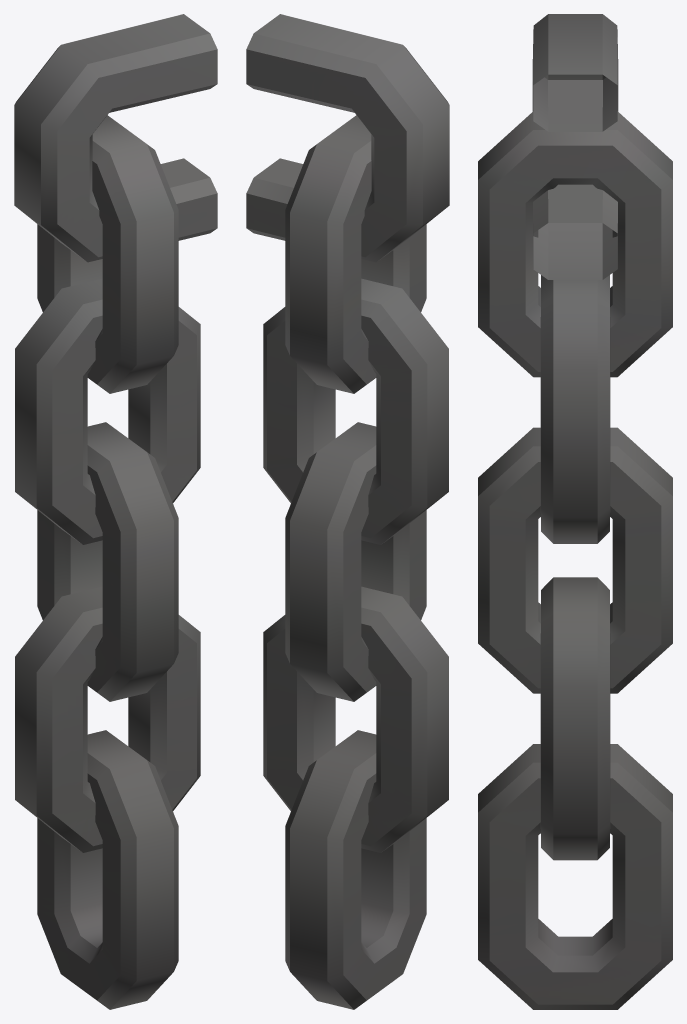
The model's file is Chain_2_1.obj.
3 views of the same model, side by side, from view 1: azimuth 30°, elevation 25°; view 2: azimuth 150°, elevation 25°; view 3: azimuth 270°, elevation 25° (orthographic). The views are drawn at different scales.
Parts seen in each view (by area): view 1: Chain_2_1; view 2: Chain_2_1; view 3: Chain_2_1.
Part boxes in pixels (box(x1,y1,x2,y2)): Chain_2_1: box(14, 14, 217, 1009); Chain_2_1: box(246, 14, 449, 1009); Chain_2_1: box(478, 14, 672, 1009).
Size of the model in its own units: 0.1171 by 0.6174 by 0.1122.
